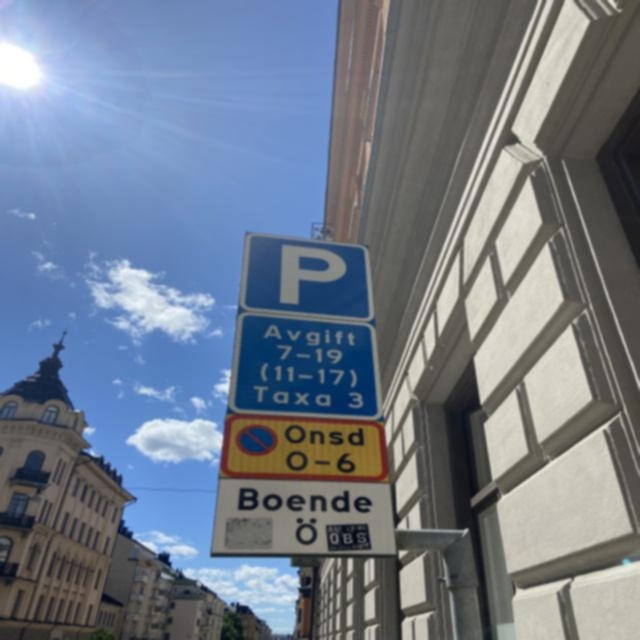P-skylt: (240, 230, 376, 326)
